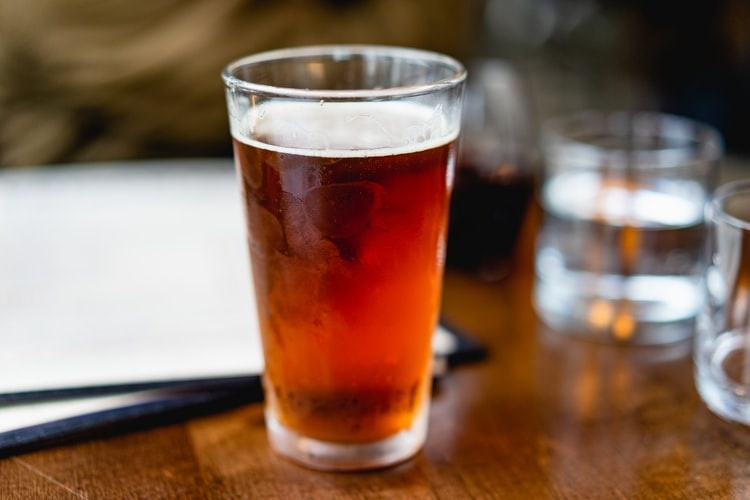whiskey: (228, 49, 462, 462)
